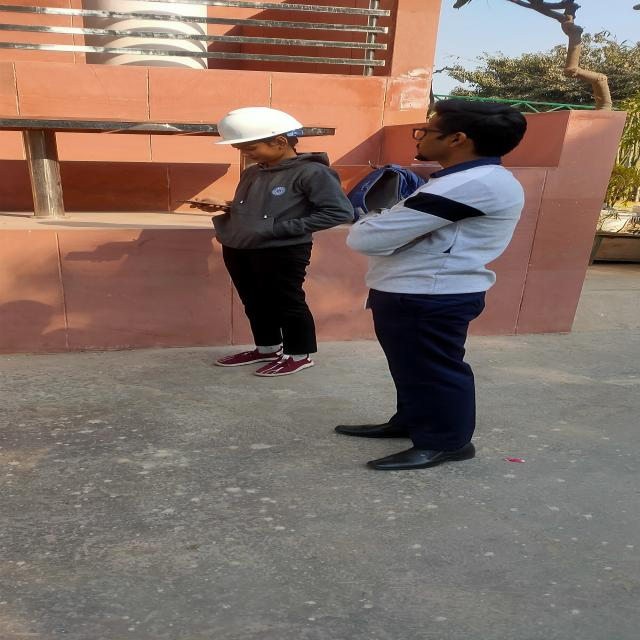no jacket: (185, 105, 348, 378)
unsafe: (332, 96, 525, 477)
